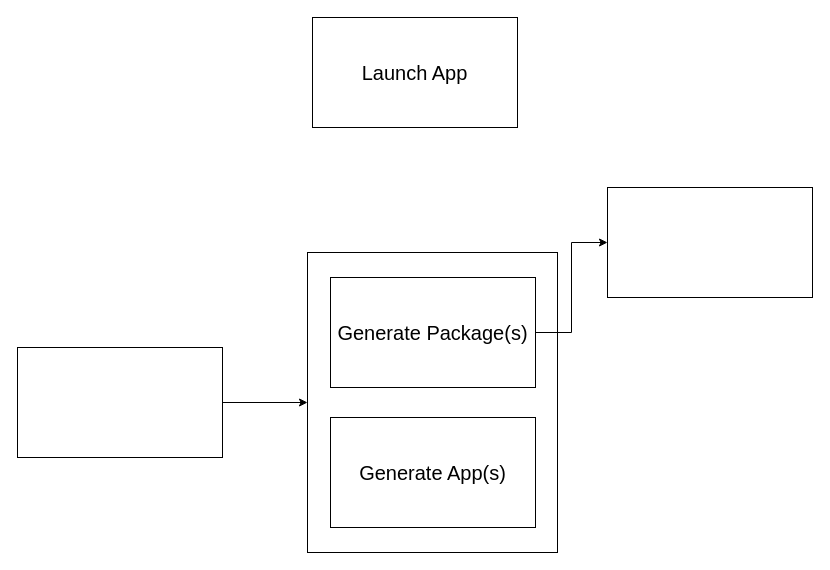
Some shapes in this 830 by 570 pixel diagram are drawn without their labels. The shapes that lost their labels are listed below. From the top down, each one's centre as x and y in pixels, then its label:
At pixel 709 242: "Generate Code".
At pixel 119 402: "Create Macro Repo".
